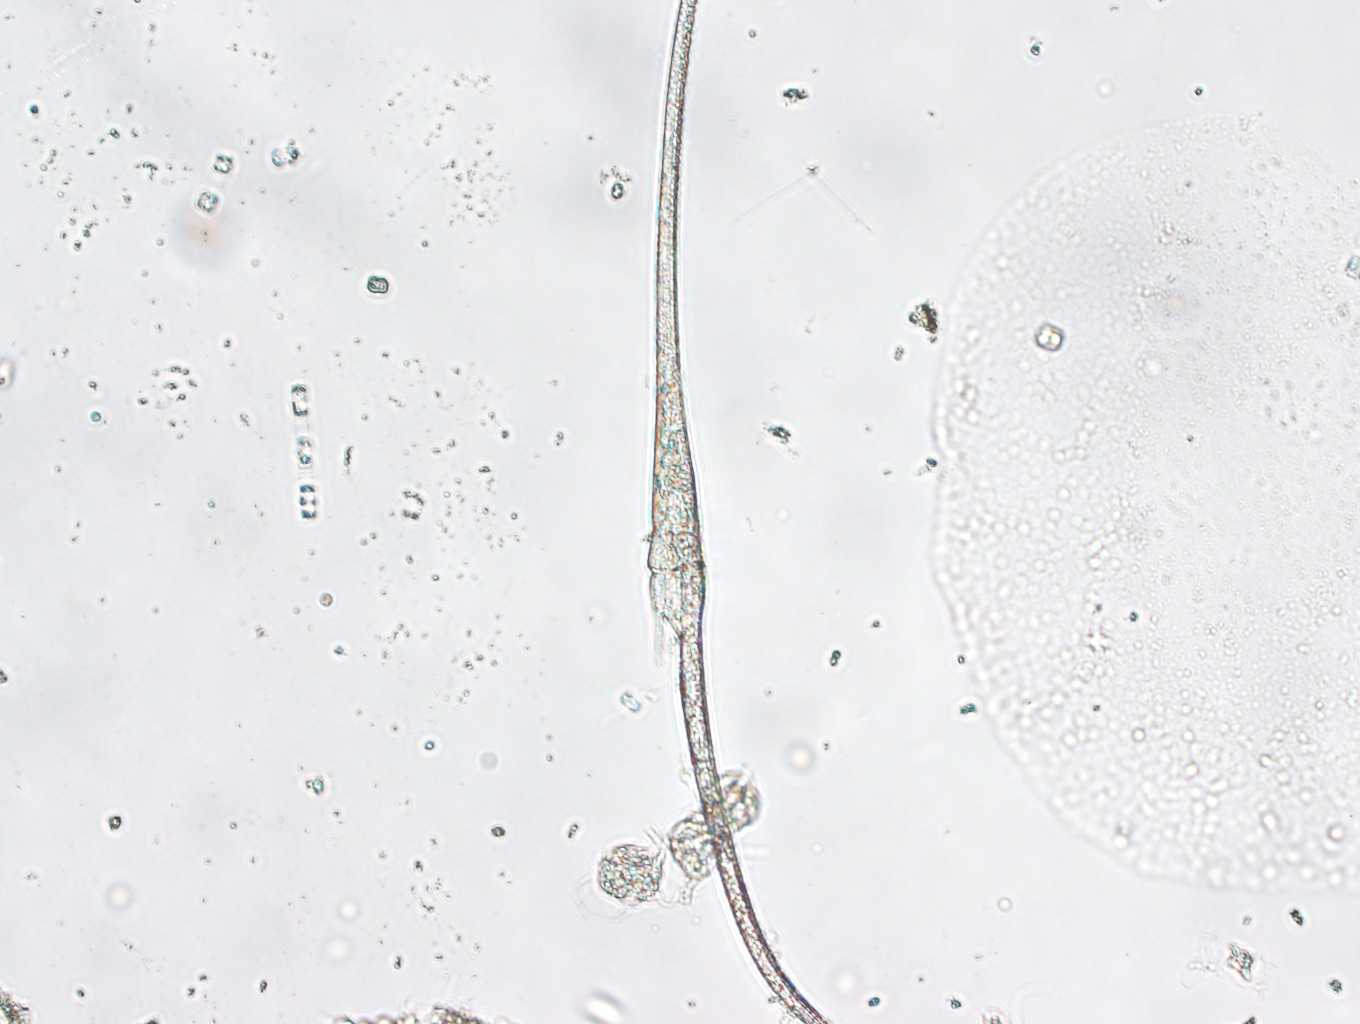ceratium fusus: (644, 1, 826, 1024)
skeletonema: (287, 380, 319, 523)
